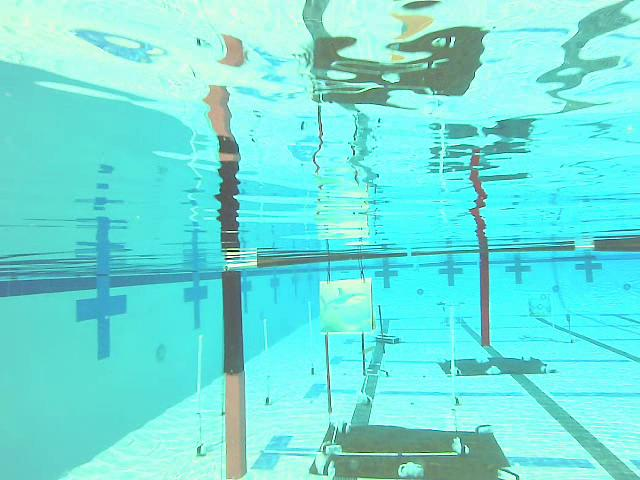black_poster: (324, 329, 334, 412), (360, 317, 369, 375)
divider: (479, 251, 489, 346)
left_gate_poster: (221, 271, 246, 479)
shark: (318, 280, 374, 334)
white_poster: (196, 335, 207, 416), (306, 300, 316, 359), (261, 320, 269, 379)
